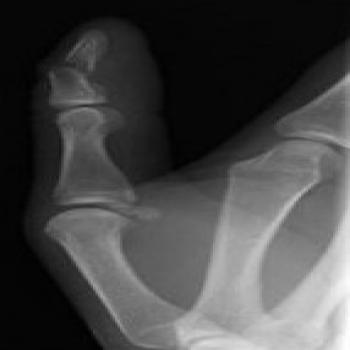Fracture: (46, 51, 106, 86)
